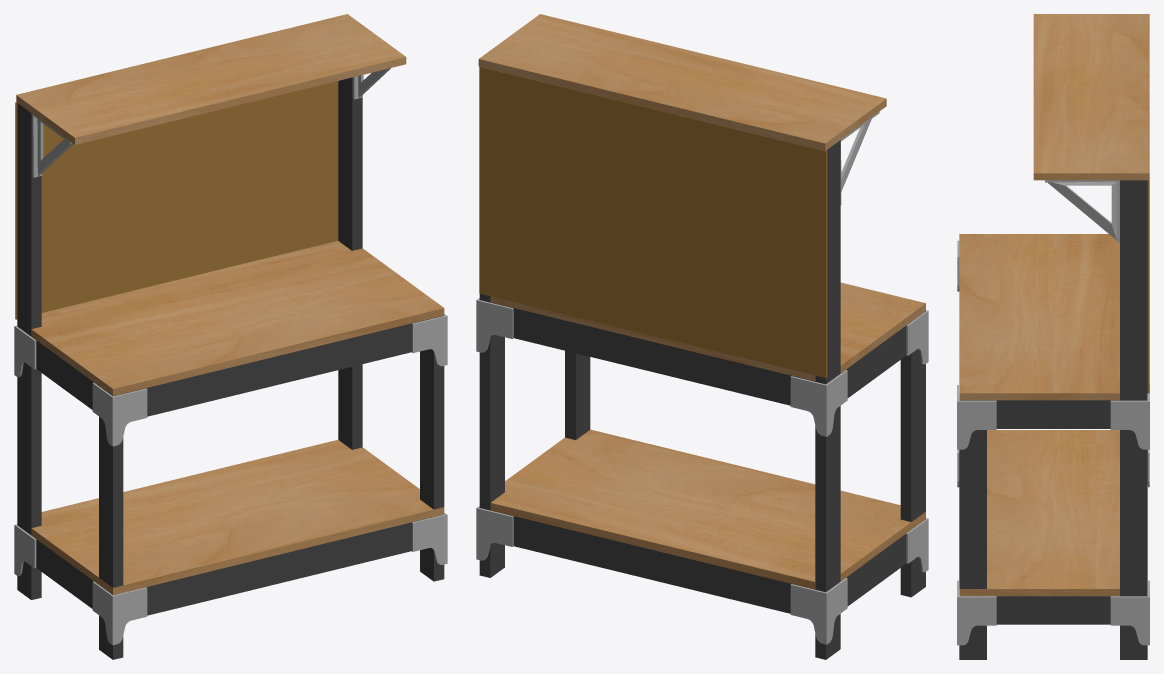
File: workbench.obj
3 views of the same model, side by side, from view 1: azimuth 30°, elevation 25°; view 2: azimuth 150°, elevation 25°; view 3: azimuth 270°, elevation 25° (orthographic). The views are drawn at different scales.
Visible parts, largest first — view 1: Pegboard_Cube.016, Top_Cube, Top.001_Cube.018, Top.002_Cube.017, Cube.002_Cube.007, 2x4_Cube.001, 2x4.007_Cube.012, Cube.001_Cube.006, Cube_Cube.005, Cube.003_Cube.008, Brace.007_Plane.011, Brace_Plane.001 (+7 smaller); view 2: Pegboard_Cube.016, Top.001_Cube.018, Top.002_Cube.017, 2x4.001_Cube.002, 2x4.006_Cube.011, Cube.002_Cube.007, Top_Cube, Cube.003_Cube.008, Cube.001_Cube.006, Brace.005_Plane.009, Brace.002_Plane.006, Cube_Cube.005 (+7 smaller); view 3: Top_Cube, Top.001_Cube.018, Top.002_Cube.017, Cube.001_Cube.006, Cube_Cube.005, 2x4.003_Cube.004, 2x4.004_Cube.009, Bracket.001_Plane.004, Brace.006_Plane.010, Brace.003_Plane.007, Brace.001_Plane.005, Brace.004_Plane.008 (+1 smaller).
Part boxes in pixels (<box>): Pegboard_Cube.016: <box>15,81,338,319</box>; Top_Cube: <box>31,241,444,395</box>; Top.001_Cube.018: <box>31,440,444,594</box>; Top.002_Cube.017: <box>16,14,406,144</box>; Cube.002_Cube.007: <box>17,103,41,599</box>; 2x4_Cube.001: <box>113,315,444,416</box>; 2x4.007_Cube.012: <box>128,517,433,615</box>; Cube.001_Cube.006: <box>338,77,362,449</box>; Cube_Cube.005: <box>420,349,444,581</box>; Cube.003_Cube.008: <box>99,416,123,659</box>; Brace.007_Plane.011: <box>92,382,147,446</box>; Brace_Plane.001: <box>92,581,147,645</box>; Pegboard_Cube.016: <box>479,67,827,377</box>; Top.001_Cube.018: <box>490,429,925,589</box>; Top.002_Cube.017: <box>478,14,886,150</box>; 2x4.001_Cube.002: <box>479,299,825,405</box>; 2x4.006_Cube.011: <box>479,507,825,613</box>; Cube.002_Cube.007: <box>815,140,840,659</box>; Top_Cube: <box>490,282,925,381</box>; Cube.003_Cube.008: <box>900,348,925,597</box>; Cube.001_Cube.006: <box>479,294,504,577</box>; Brace.005_Plane.009: <box>790,370,847,436</box>; Brace.002_Plane.006: <box>790,578,847,644</box>; Cube_Cube.005: <box>565,350,590,440</box>; Top_Cube: <box>959,234,1119,400</box>; Top.001_Cube.018: <box>959,430,1119,596</box>; Top.002_Cube.017: <box>1033,14,1149,180</box>; Cube.001_Cube.006: <box>1120,180,1147,659</box>; Cube_Cube.005: <box>959,430,986,659</box>; 2x4.003_Cube.004: <box>959,400,1147,428</box>; 2x4.004_Cube.009: <box>996,596,1110,624</box>; Bracket.001_Plane.004: <box>1045,180,1119,242</box>; Brace.006_Plane.010: <box>957,385,996,449</box>; Brace.003_Plane.007: <box>1110,580,1149,645</box>; Brace.001_Plane.005: <box>957,580,996,645</box>; Brace.004_Plane.008: <box>1110,385,1149,449</box>.
Size of the model in its own units: 123 by 174 by 62.44.
